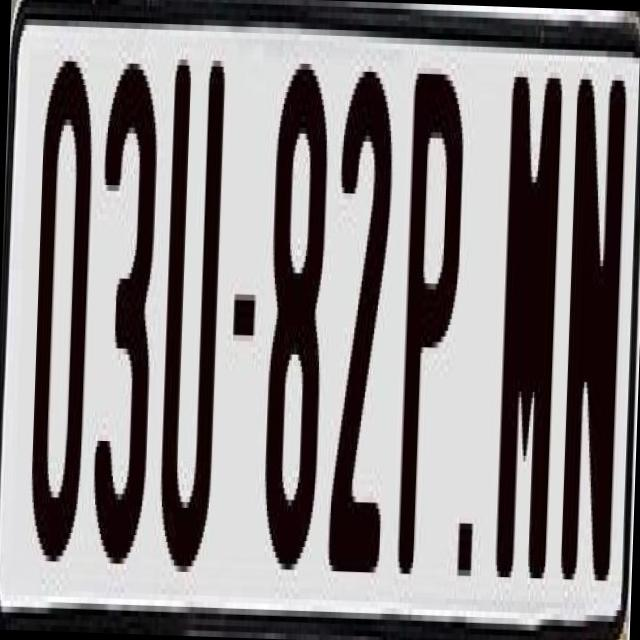0: (27, 54, 102, 562)
2: (324, 58, 402, 584)
3: (88, 62, 164, 564)
8: (262, 51, 331, 558)
M: (494, 76, 569, 596)
N: (556, 78, 626, 610)
P: (394, 55, 468, 558)
U: (156, 47, 228, 567)
